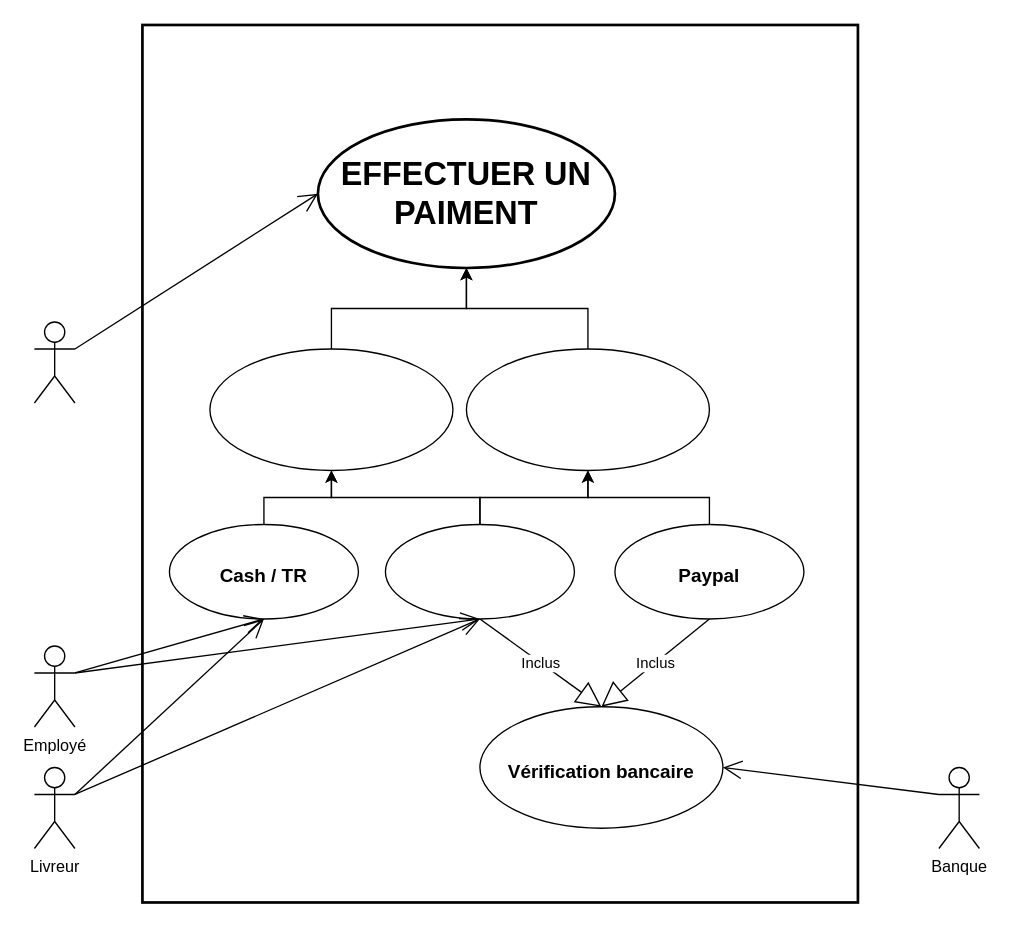
The diagram is 1010 pixels wide and 926 high, and some of its shapes have lost their labels. The box of each missing label's shape, as (x1, y1, x2, y2) in pixels:
Carte bancaire: (384, 523, 574, 619)
Client: (33, 321, 75, 403)
Payer sur internet: (465, 348, 709, 470)
Payer sur place ou à la livraison: (209, 348, 453, 470)
